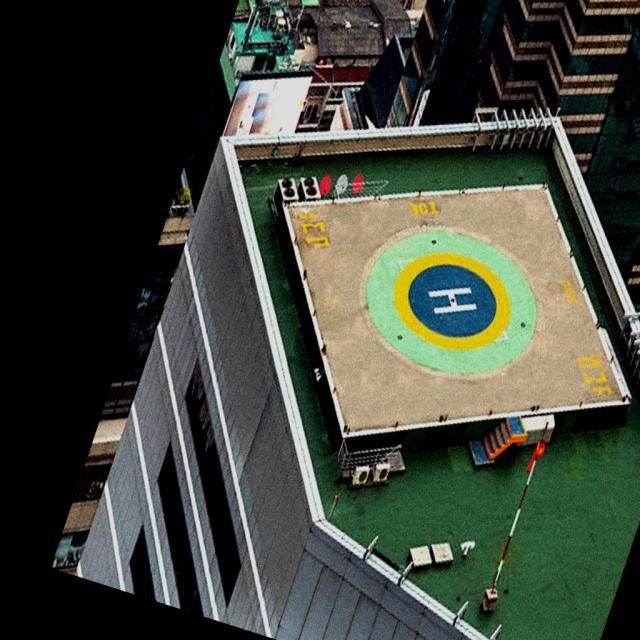helipad: (390, 246, 513, 353)
